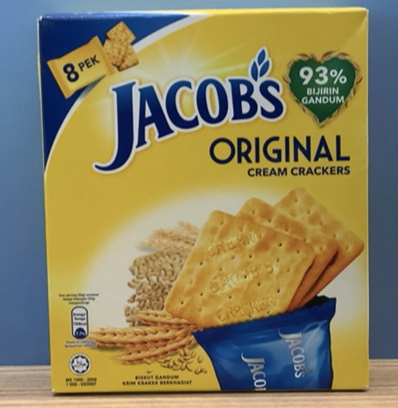crackers_200g-299g: (57, 20, 365, 389)
